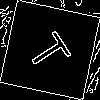T: (24, 24, 80, 76)
